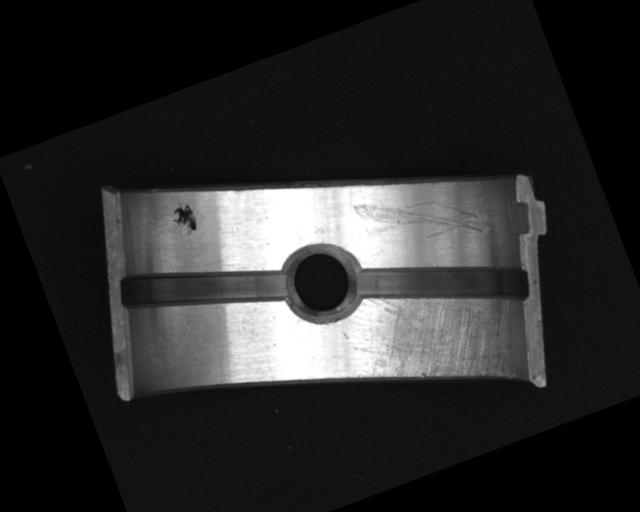blot: (166, 198, 203, 240)
gap: (348, 214, 535, 356), (113, 221, 293, 351)
hole: (276, 236, 364, 325)
nick: (350, 163, 489, 274)
scratch: (335, 249, 531, 429)
